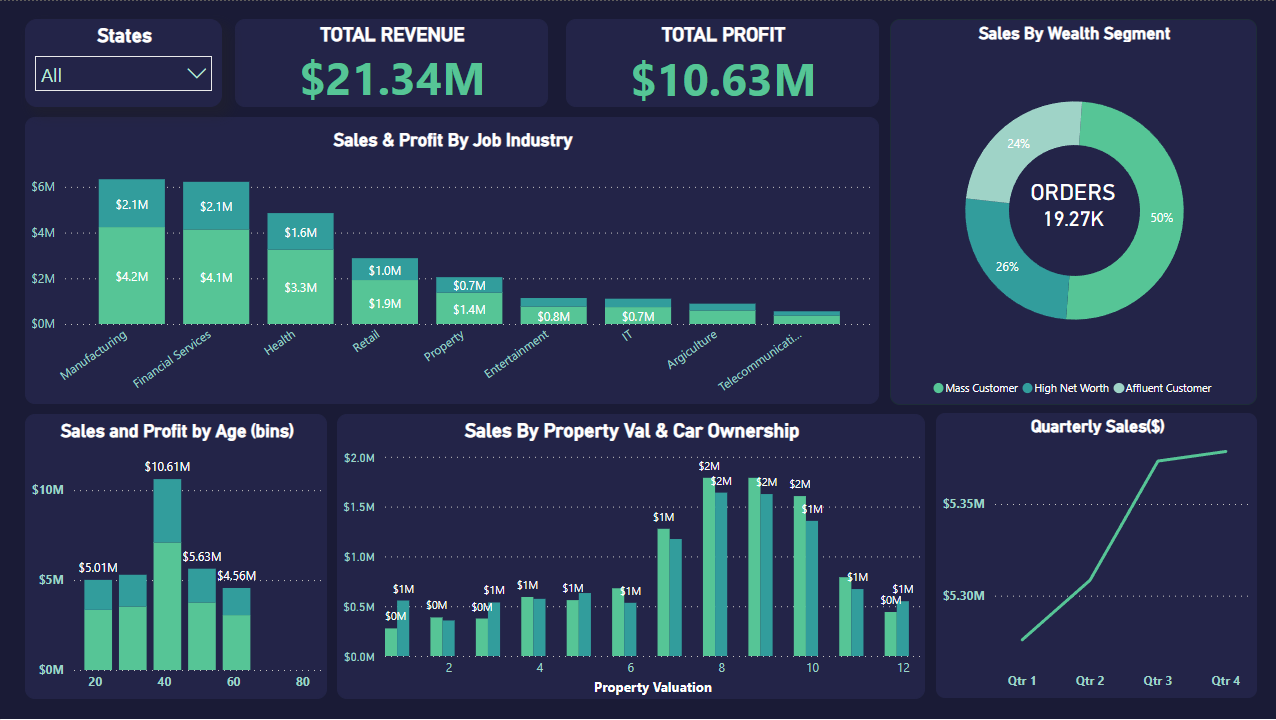

The dashboard page shown, as its layout file describes it:
{"tool":"powerbi","page":{"name":"Page 2","canvas":[1280,720],"ordinal":0},"visuals":[{"type":"donutChart","title":"Sales By Wealth Segment","fields":{"Category":["CustomerDemographic.wealth_segment"],"Y":["Sum(Transactions.list_price)"]},"box":[890.9,18.5,366.7,385.2],"z":0},{"type":"card","title":"ORDERS","fields":{"Values":["CountNonNull(Transactions.list_price)"]},"box":[1025.2,178,98.2,51.6],"z":1000},{"type":"lineChart","title":"Quarterly Sales($)","fields":{"Y":["Sum(Transactions.list_price)"],"Category":["Transactions.transaction_date.Variation.Date Hierarchy.Year","Transactions.transaction_date.Variation.Date Hierarchy.Quarter"]},"box":[936.7,412.4,321,285],"z":2000},{"type":"columnChart","title":"Sales & Profit By Job Industry","fields":{"Category":["CustomerDemographic.job_industry_category"],"Y":["Sum(Transactions.list_price)","Sum(Transactions.Profit)"]},"box":[26.1,116.3,854.1,286.9],"z":3000},{"type":"columnChart","title":"Sales and Profit by Age (bins)","fields":{"Category":["CustomerDemographic.Age (bins)"],"Y":["Sum(Transactions.list_price)","Sum(Transactions.Profit)"]},"box":[26.1,412.9,302.1,284.7],"z":4000},{"type":"clusteredColumnChart","title":"Sales By Property Val & Car Ownership","fields":{"Category":["CustomerAddress.property_valuation"],"Y":["Sum(Transactions.list_price)"],"Series":["CustomerDemographic.owns_car"]},"box":[337.9,412.9,587.8,284.7],"z":5000},{"type":"card","title":"TOTAL PROFIT","fields":{"Values":["Sum(Transactions.Profit)"]},"box":[567.2,18.5,312.9,88],"z":6000},{"type":"card","title":"TOTAL REVENUE","fields":{"Values":["Sum(Transactions.list_price)"]},"box":[235.8,18.5,312.9,88],"z":7000},{"type":"slicer","title":"States","fields":{"Values":["CustomerAddress.state"]},"box":[26.1,18.5,196.7,88],"z":8000}]}

Visuals, with their boxes in screenshot pixels (x1, y1, x2, y2), scaled from the page's 1280x720 canvas onto the 1276x720 screenshot:
"Sales By Wealth Segment" donutChart: region(888, 18, 1254, 404)
"ORDERS" card: region(1022, 178, 1120, 230)
"Quarterly Sales($)" lineChart: region(934, 412, 1254, 697)
"Sales & Profit By Job Industry" columnChart: region(26, 116, 877, 403)
"Sales and Profit by Age (bins)" columnChart: region(26, 413, 327, 698)
"Sales By Property Val & Car Ownership" clusteredColumnChart: region(337, 413, 923, 698)
"TOTAL PROFIT" card: region(565, 18, 877, 106)
"TOTAL REVENUE" card: region(235, 18, 547, 106)
"States" slicer: region(26, 18, 222, 106)
